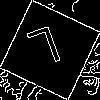L: (25, 25, 67, 78)
